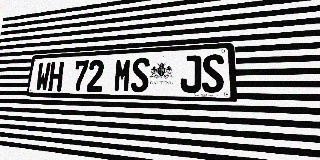2: (87, 60, 104, 92)
7: (72, 60, 89, 92)
H: (48, 62, 64, 91)
J: (180, 55, 201, 93)
M: (113, 58, 132, 92)
S: (202, 54, 224, 93), (131, 57, 150, 92)
W: (35, 62, 51, 91)
